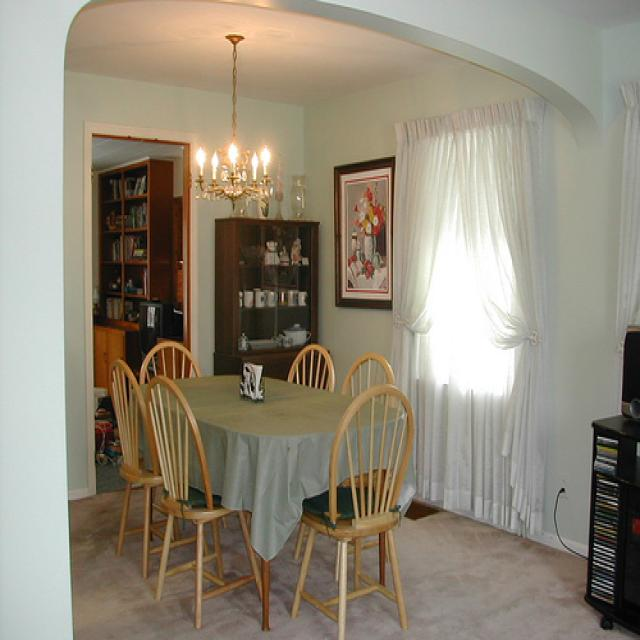chair: (142, 363, 266, 629), (289, 382, 413, 639), (106, 353, 162, 583), (136, 334, 205, 388), (339, 351, 400, 402), (280, 344, 339, 395)
diningtable: (114, 361, 417, 636)
tvmonitor: (135, 298, 184, 371)
